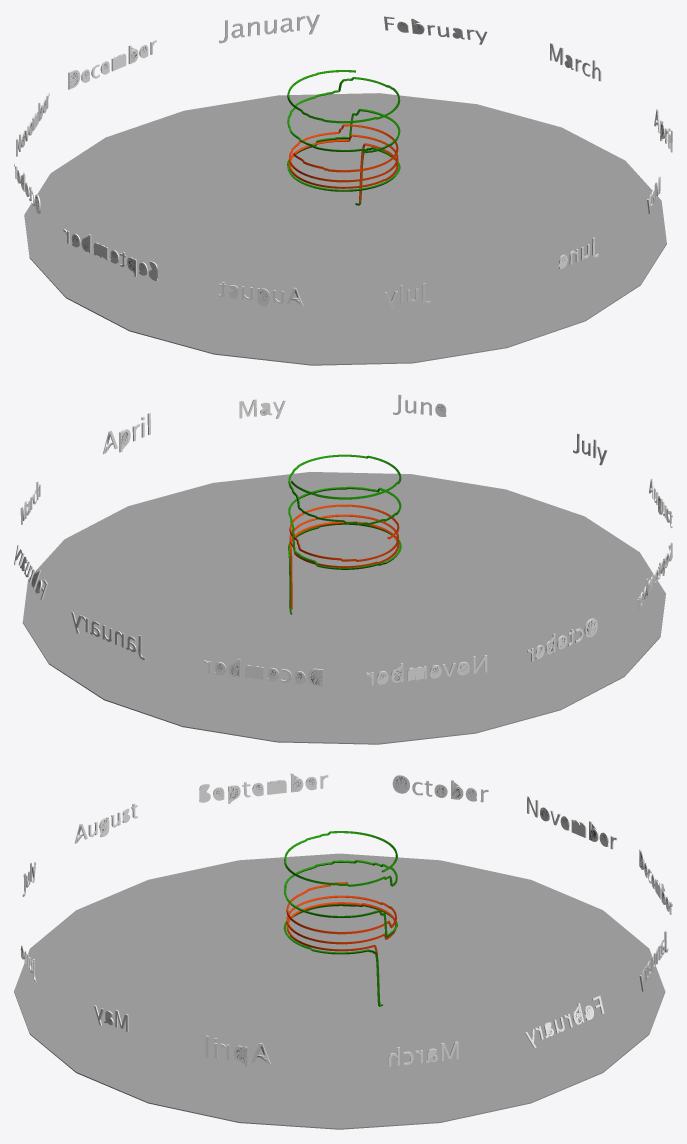
Rendered from vis_06.fbx.
The picture shows the model from 3 angles, top to bottom: view 1: azimuth 30°, elevation 25°; view 2: azimuth 150°, elevation 25°; view 3: azimuth 270°, elevation 25°; orthographic projection.
Visible parts, largest first — view 1: pCylinder1, triangle, triangle1, typeMesh9, typeMesh12, typeMesh2, typeMesh13, typeMesh8, typeMesh3; view 2: pCylinder1, triangle, triangle1, typeMesh12, typeMesh11, typeMesh10, typeMesh13, typeMesh4, typeMesh2, typeMesh9; view 3: pCylinder1, triangle, triangle1, typeMesh9, typeMesh11, typeMesh10, typeMesh2, typeMesh8, typeMesh4, typeMesh3.
Boxes of the visible parts, x1,y1,x2,y2 form: pCylinder1: (24, 93, 666, 365); triangle: (287, 70, 400, 205); triangle1: (289, 124, 398, 202); typeMesh9: (63, 229, 157, 280); typeMesh12: (68, 40, 156, 89); typeMesh2: (384, 15, 487, 44); typeMesh13: (219, 14, 319, 43); typeMesh8: (218, 281, 303, 306); typeMesh3: (550, 43, 601, 81); pCylinder1: (22, 472, 665, 744); triangle: (288, 454, 401, 614); triangle1: (289, 504, 399, 609); typeMesh12: (203, 658, 323, 686); typeMesh11: (366, 655, 487, 685); typeMesh10: (527, 618, 597, 661); typeMesh13: (71, 611, 145, 659); typeMesh4: (103, 412, 150, 454); typeMesh2: (14, 545, 47, 600); typeMesh9: (637, 542, 672, 610); pCylinder1: (14, 853, 665, 1129); triangle: (283, 831, 397, 1006); triangle1: (286, 882, 396, 954); typeMesh9: (199, 773, 328, 803); typeMesh11: (527, 796, 617, 849); typeMesh10: (392, 775, 488, 802); typeMesh2: (524, 995, 604, 1048); typeMesh8: (74, 803, 137, 843); typeMesh4: (205, 1035, 270, 1067); typeMesh3: (388, 1041, 458, 1066).
Size of what is drawn, in the model's own units: 1181 by 271 by 1177.
